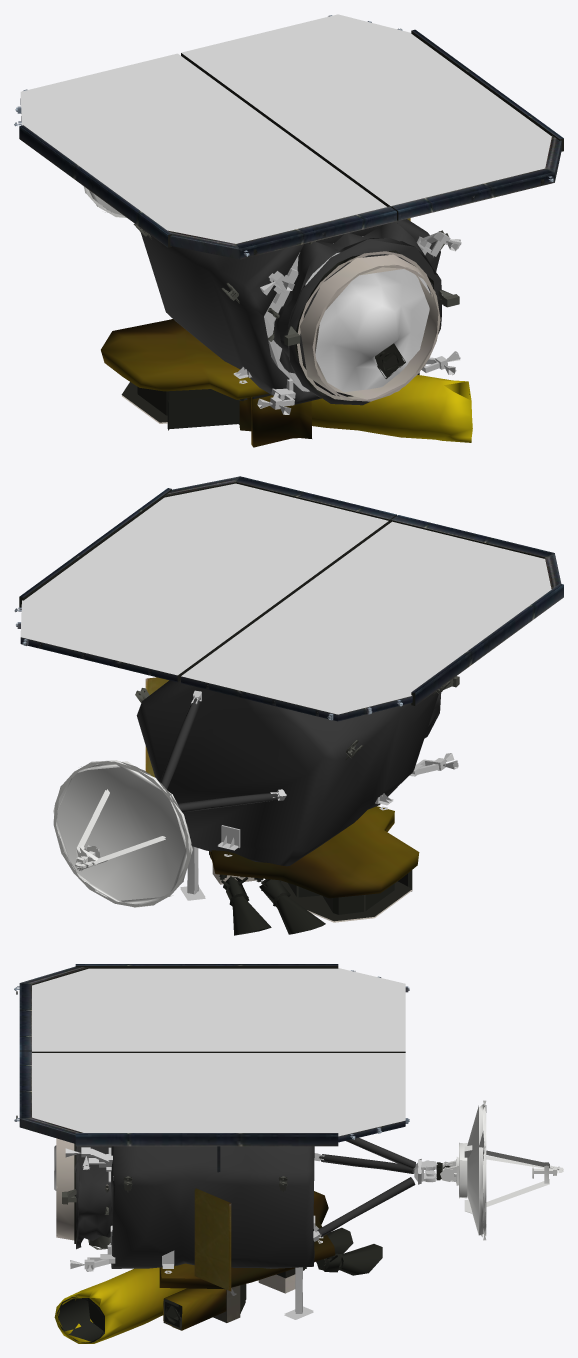
The model's file is deepimpact_lod2.glb.
3 renders of one model, top to bottom at view 1: azimuth 30°, elevation 25°; view 2: azimuth 150°, elevation 25°; view 3: azimuth 270°, elevation 25°, orthographic. The views are drawn at different scales.
Parts seen in each view (by area): view 1: deepimpact_lod2; view 2: deepimpact_lod2; view 3: deepimpact_lod2.
Part boxes in pixels (x1,y1,x2,y2): deepimpact_lod2: (14,14,563,447); deepimpact_lod2: (14,476,563,935); deepimpact_lod2: (14,964,563,1343).
Size of the model in its own units: 2.89 by 2 by 3.93.
Materials: 9 (3 with a texture image).
